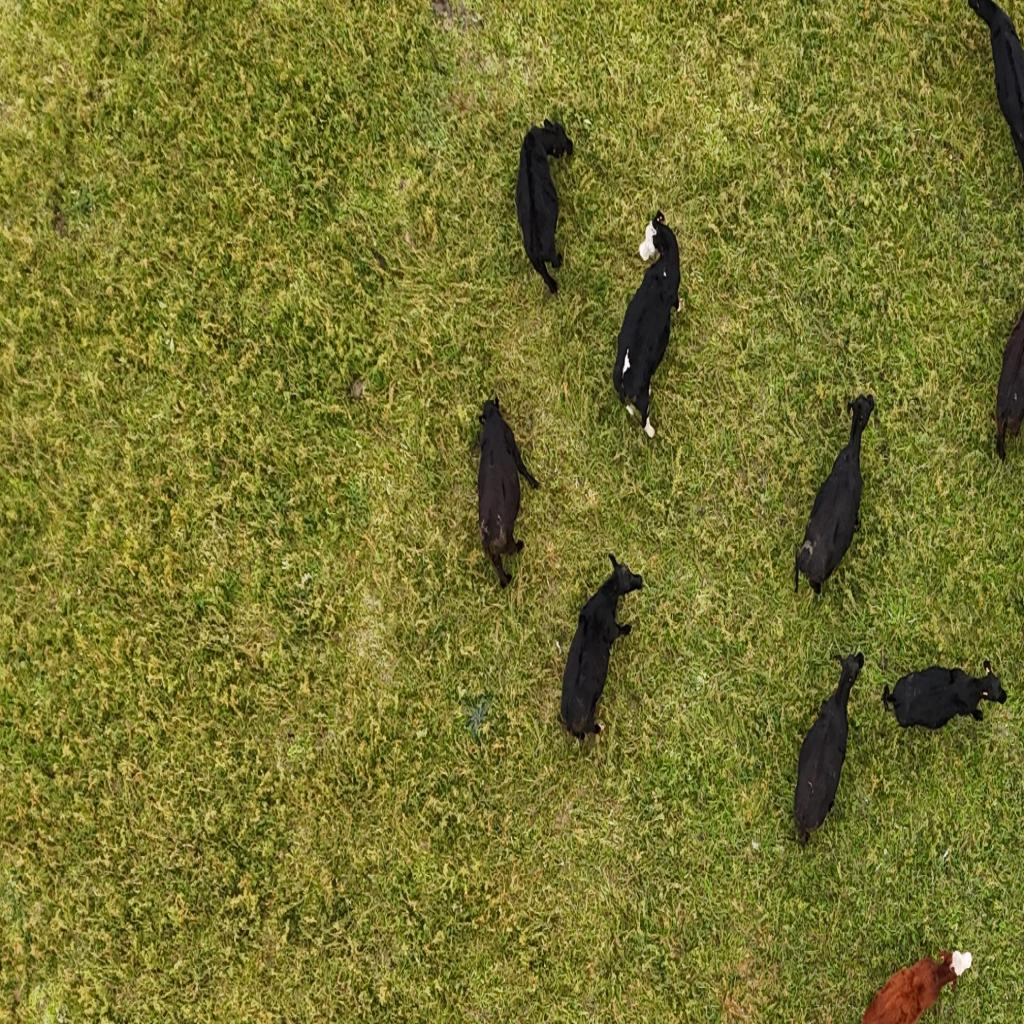cow: (608, 201, 687, 452), (792, 394, 874, 599), (560, 557, 643, 745), (791, 654, 863, 846), (476, 396, 540, 588), (514, 108, 576, 298), (851, 942, 975, 1024), (882, 658, 1006, 732)
